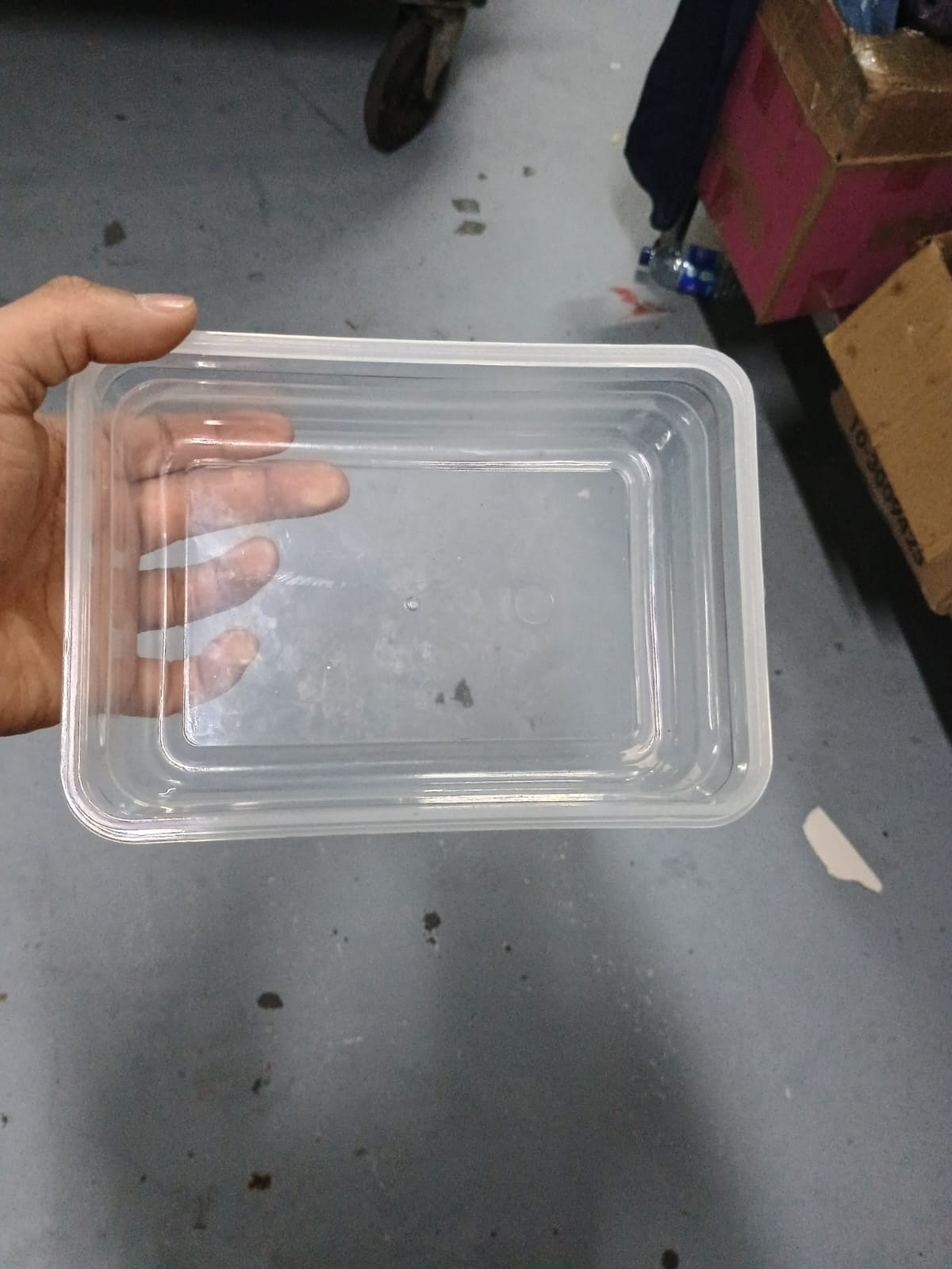Plastico: (60, 327, 775, 839)
